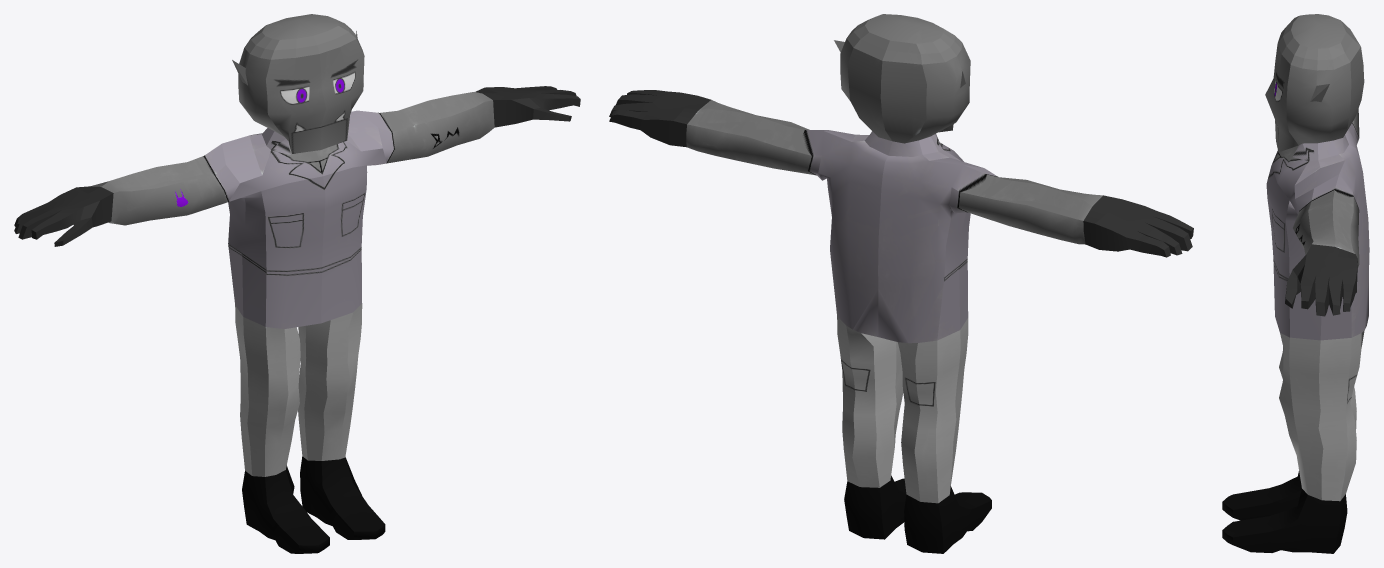
File: BeetleMast.fbx
3 renders of one model, left to right at view 1: azimuth 30°, elevation 25°; view 2: azimuth 150°, elevation 25°; view 3: azimuth 270°, elevation 25°, orthographic. The views are drawn at different scales.
Visible parts, largest first — view 1: BeetleMast; view 2: BeetleMast; view 3: BeetleMast.
Part boxes in pixels (x1,y1,x2,y2): BeetleMast: (14, 14, 580, 553); BeetleMast: (609, 14, 1193, 553); BeetleMast: (1222, 14, 1369, 553).
Size of the model in its own units: 4.89 by 4.19 by 1.1.
